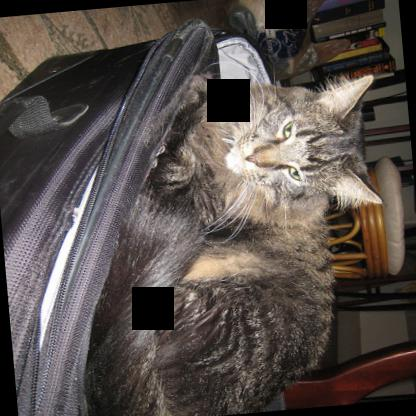suitcase: (0, 27, 296, 416)
